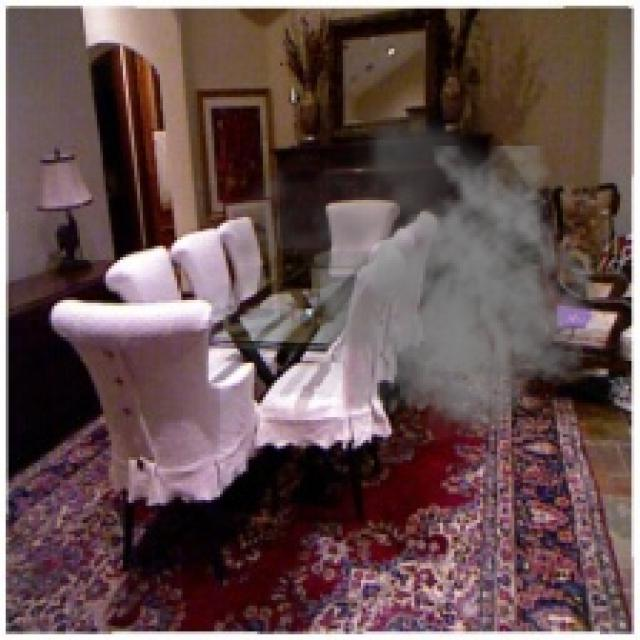smoke: (217, 103, 606, 451)
